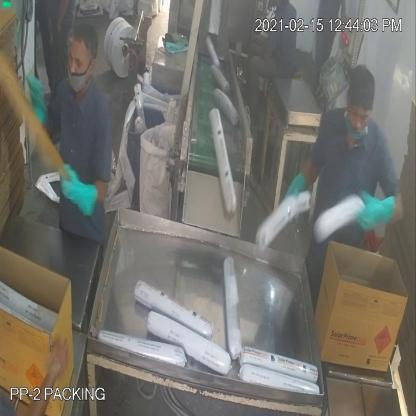glove: (51, 159, 105, 222), (354, 186, 402, 238)
no_glove: (241, 42, 280, 68)
